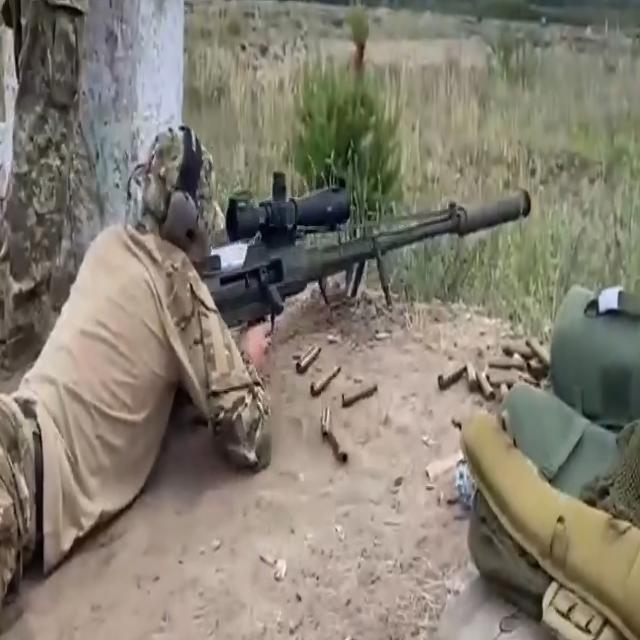rifle: (186, 164, 538, 328)
